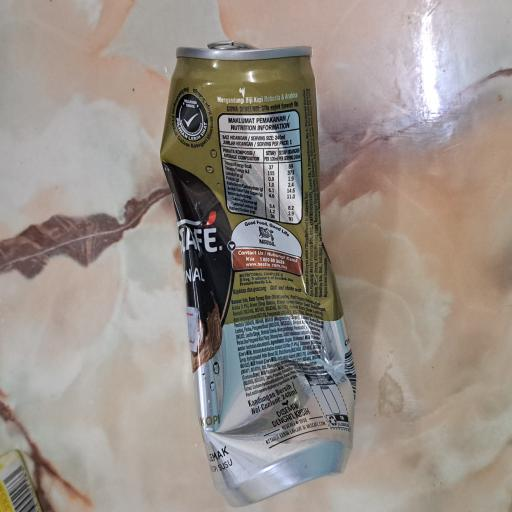can: (0, 212, 351, 474)
